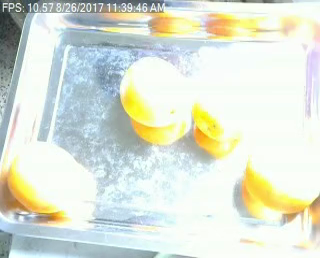Orange: (11, 140, 82, 213)
